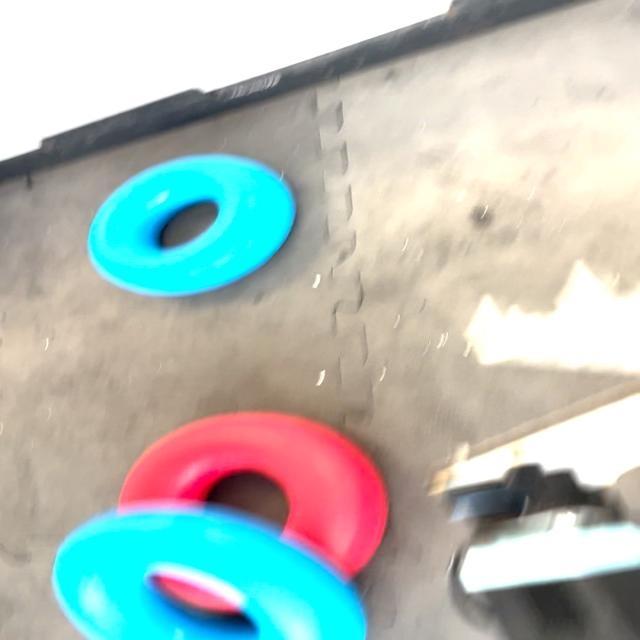Blue-Ring: (53, 508, 367, 640), (89, 154, 296, 296)
Red-Ring: (118, 411, 387, 578)
